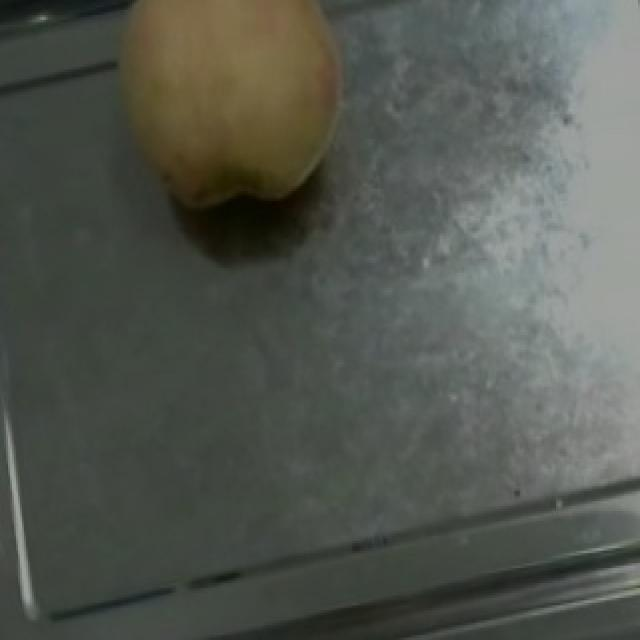Fruit: (82, 0, 376, 246)
